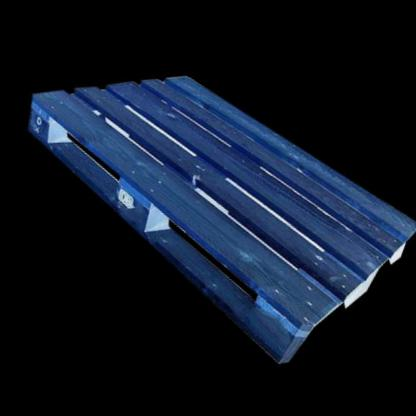BoxFace: (20, 70, 416, 375)
